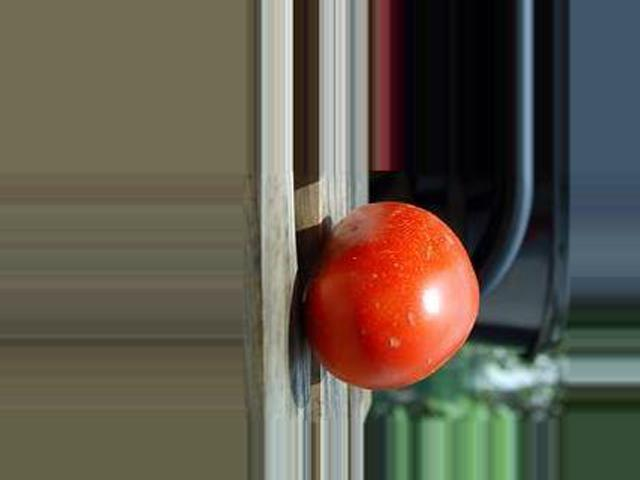tomato: (307, 202, 479, 391)
